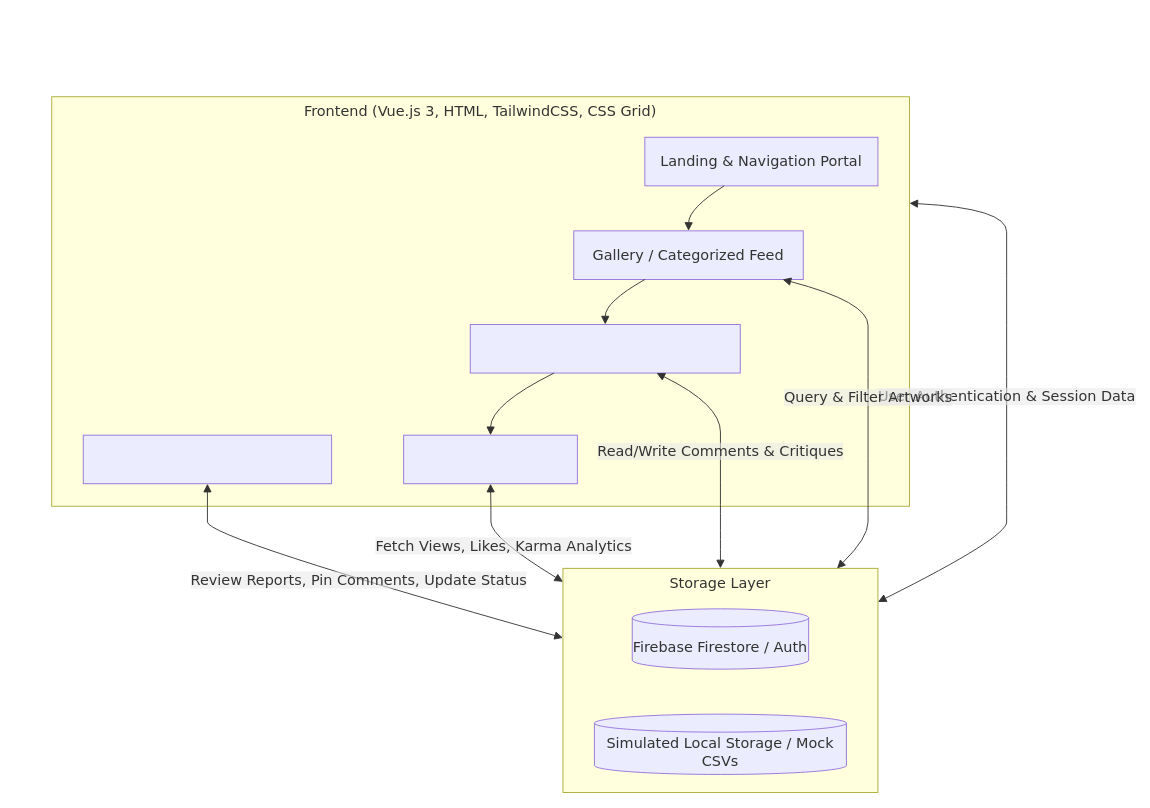
Image size: 1150x808. Some labels were removed from this diagram. The centre of each missing label's shape, as x and y in pixels:
"Art Club Moderator Dashboard" belongs at pixel 207 459.
"Artwork Detail & Critique Section" belongs at pixel 604 348.
"Creator Dashboard" belongs at pixel 490 459.
